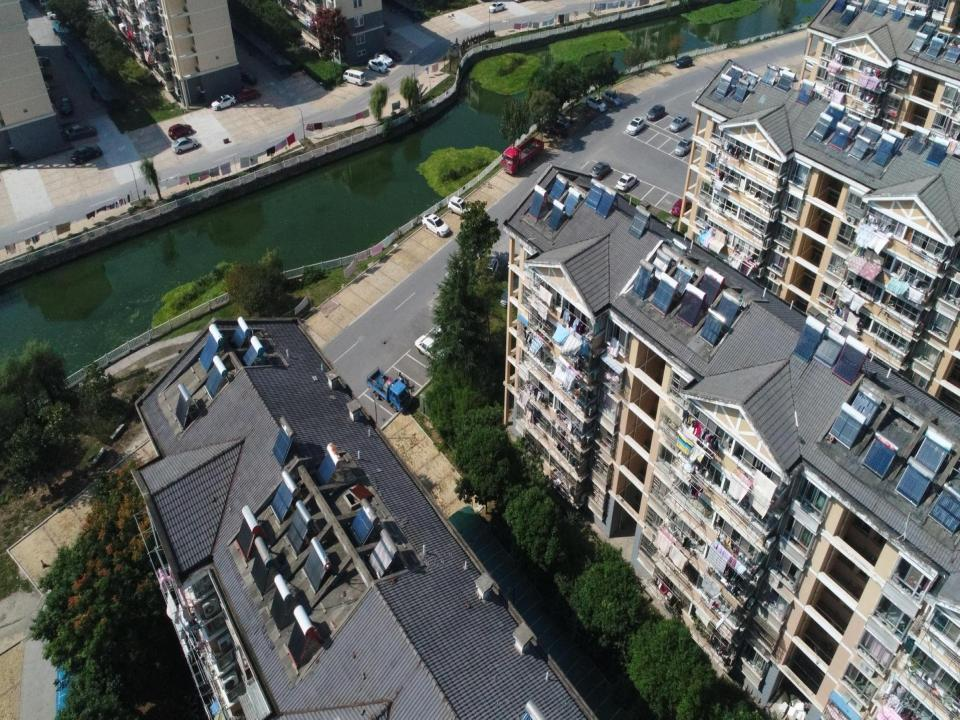car: (414, 335, 447, 362), (422, 213, 450, 237), (447, 195, 475, 218), (71, 146, 102, 165), (65, 124, 97, 140), (172, 136, 198, 154), (545, 121, 569, 139), (211, 94, 236, 111), (626, 115, 646, 136), (616, 173, 638, 192), (584, 95, 607, 113), (674, 138, 696, 156), (168, 124, 194, 139), (671, 198, 692, 216), (590, 162, 611, 180), (646, 103, 666, 121), (669, 115, 689, 132), (601, 90, 622, 106), (238, 88, 260, 102), (374, 51, 393, 67), (368, 59, 388, 73), (241, 69, 258, 85), (383, 48, 402, 62), (60, 96, 73, 116), (674, 55, 692, 69), (488, 1, 506, 14), (47, 11, 64, 19)
truck: (366, 365, 410, 412), (502, 136, 545, 175)
van: (343, 69, 366, 86), (551, 113, 569, 128)
